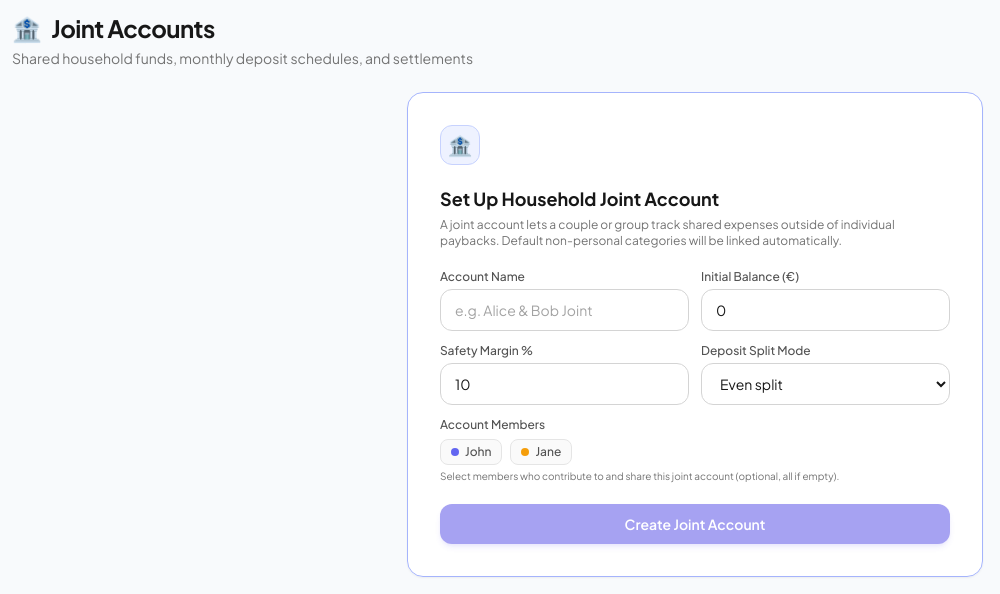
it: JointAccountTab.svelte — no account configured › enables create button once name is entered (Household)
In the field with id "ja-setup-name": (564, 310) [440,289,689,331], type "Household"
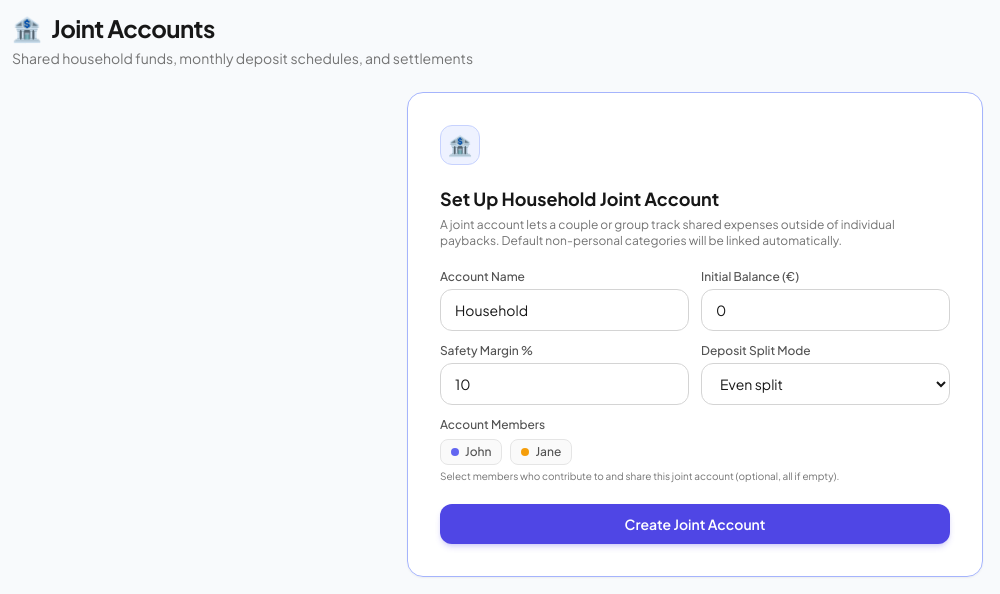
Result: the button with id "ja-create-btn" is enabled at [440,504,950,544]
